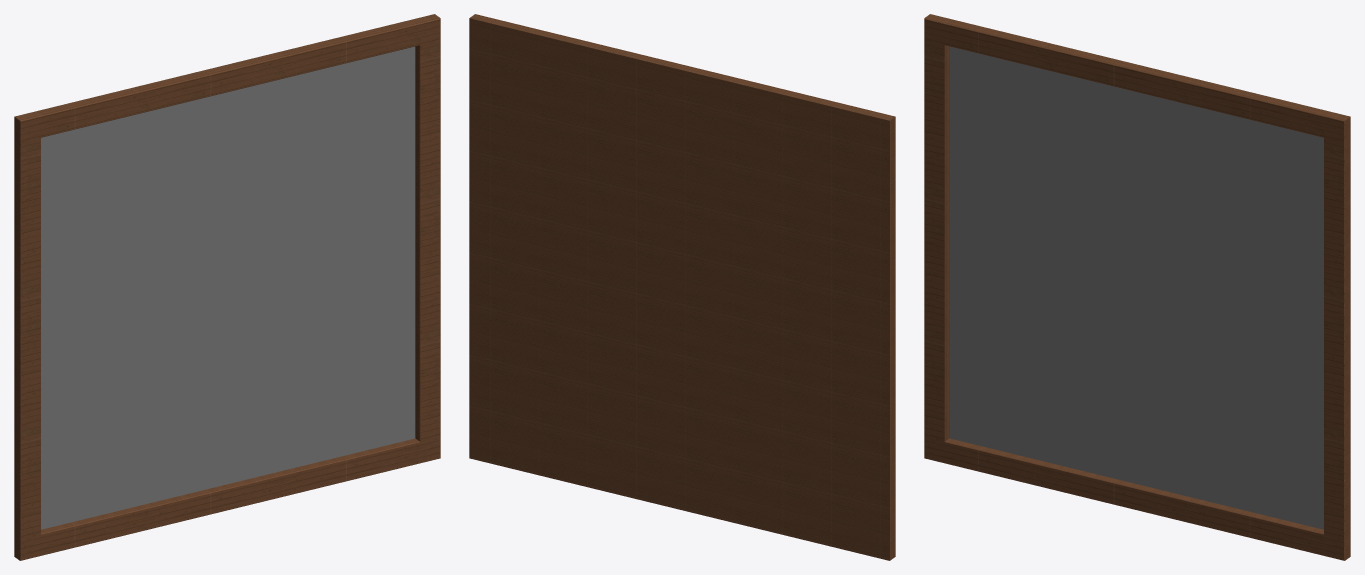
Rendered from Small Frames 1.FBX.
3 views of the same model, side by side, from view 1: azimuth 30°, elevation 25°; view 2: azimuth 150°, elevation 25°; view 3: azimuth 330°, elevation 25° (orthographic).
Visible parts, largest first — view 1: Object_3, Object_1; view 2: Object_1; view 3: Object_3, Object_1.
Boxes of the visible parts, box(x1,y1,x2,y2) form: Object_3: box(41, 46, 415, 529); Object_1: box(14, 14, 440, 560); Object_1: box(469, 14, 895, 560); Object_3: box(949, 46, 1323, 529); Object_1: box(924, 14, 1350, 560).
Size of the model in its own units: 7.87 by 7.87 by 0.1988.
